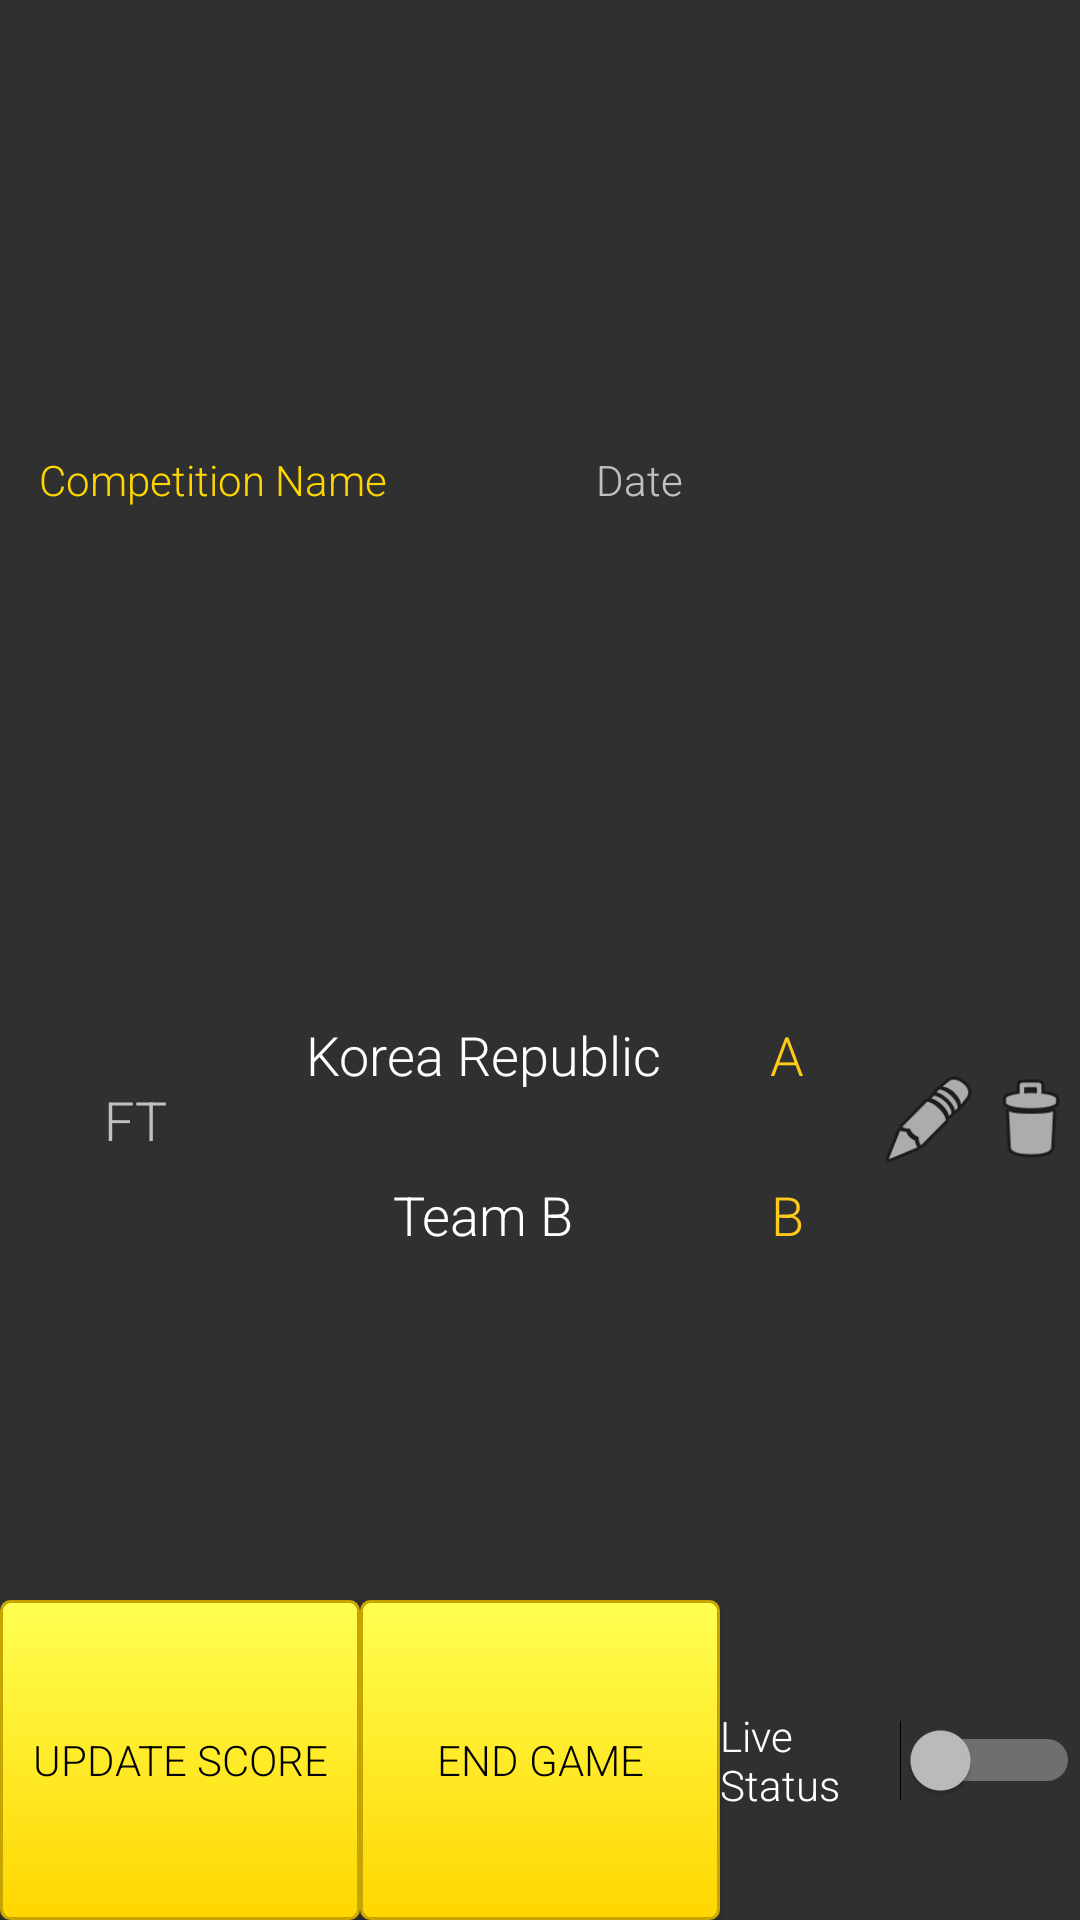

Where icons sit on this 1080px×1920px app screen, as (x1, y1, x2, y2):
delete: (1006, 1082, 1056, 1155)
edit: (889, 1079, 968, 1159)
